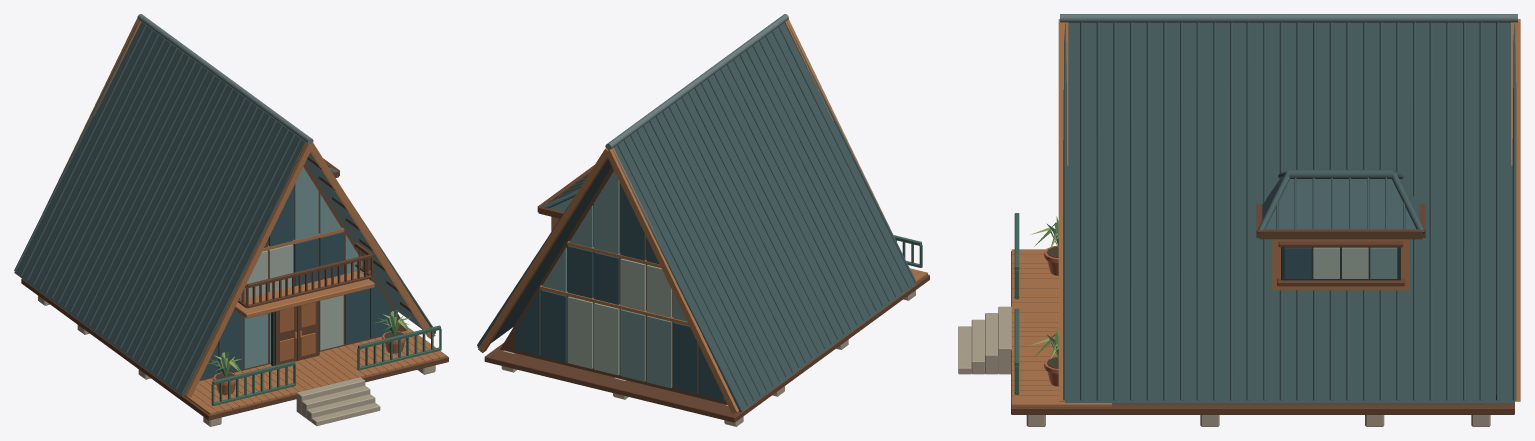
3 views of the same model, side by side, from view 1: azimuth 30°, elevation 25°; view 2: azimuth 150°, elevation 25°; view 3: azimuth 270°, elevation 25° (orthographic). The views are drawn at different scales.
Parts seen in each view (by area): view 1: Twin folded roof planes, Espalier glazing, Outdoor dining deck, Verandah rails, Stair treads, Entrance joinery, Orchard chalet, Potted pandan; view 2: Twin folded roof planes, Espalier glazing, Outdoor dining deck, Orchard chalet, Roof covering, Eave fascia; view 3: Twin folded roof planes, Outdoor dining deck, Roof covering, Casements and sills, Stair treads, Orchard chalet, Eave fascia, Potted pandan, Verandah rails.
Part boxes in pixels (left/top/right/bottom): Twin folded roof planes: left=14, top=14, right=435, bottom=397; Espalier glazing: left=200, top=167, right=393, bottom=379; Outdoor dining deck: left=21, top=271, right=448, bottom=426; Verandah rails: left=211, top=242, right=441, bottom=405; Stair treads: left=296, top=377, right=380, bottom=425; Entrance joinery: left=271, top=301, right=319, bottom=365; Orchard chalet: left=199, top=163, right=407, bottom=381; Potted pandan: left=208, top=310, right=411, bottom=394; Twin folded roof planes: left=477, top=14, right=916, bottom=413; Espalier glazing: left=515, top=171, right=724, bottom=400; Outdoor dining deck: left=484, top=268, right=929, bottom=426; Orchard chalet: left=500, top=166, right=727, bottom=404; Roof covering: left=538, top=175, right=587, bottom=211; Eave fascia: left=537, top=165, right=594, bottom=218; Twin folded roof planes: left=1058, top=14, right=1520, bottom=402; Outdoor dining deck: left=1011, top=249, right=1514, bottom=426; Roof covering: left=1257, top=169, right=1424, bottom=233; Casements and sills: left=1277, top=241, right=1404, bottom=286; Stair treads: left=958, top=306, right=1011, bottom=374; Orchard chalet: left=1112, top=239, right=1486, bottom=405; Eave fascia: left=1256, top=204, right=1425, bottom=239; Potted pandan: left=1030, top=216, right=1058, bottom=386; Verandah rails: left=1014, top=213, right=1019, bottom=394.
Size of the model in its own units: 9.17 by 8.69 by 13.05.
